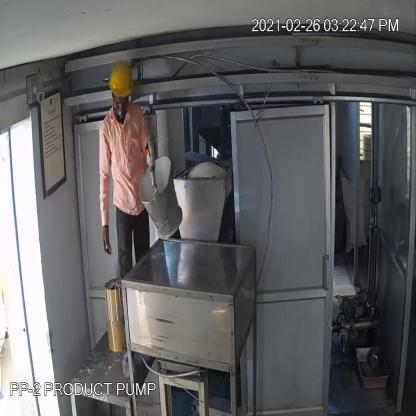helmet: (105, 54, 136, 105)
